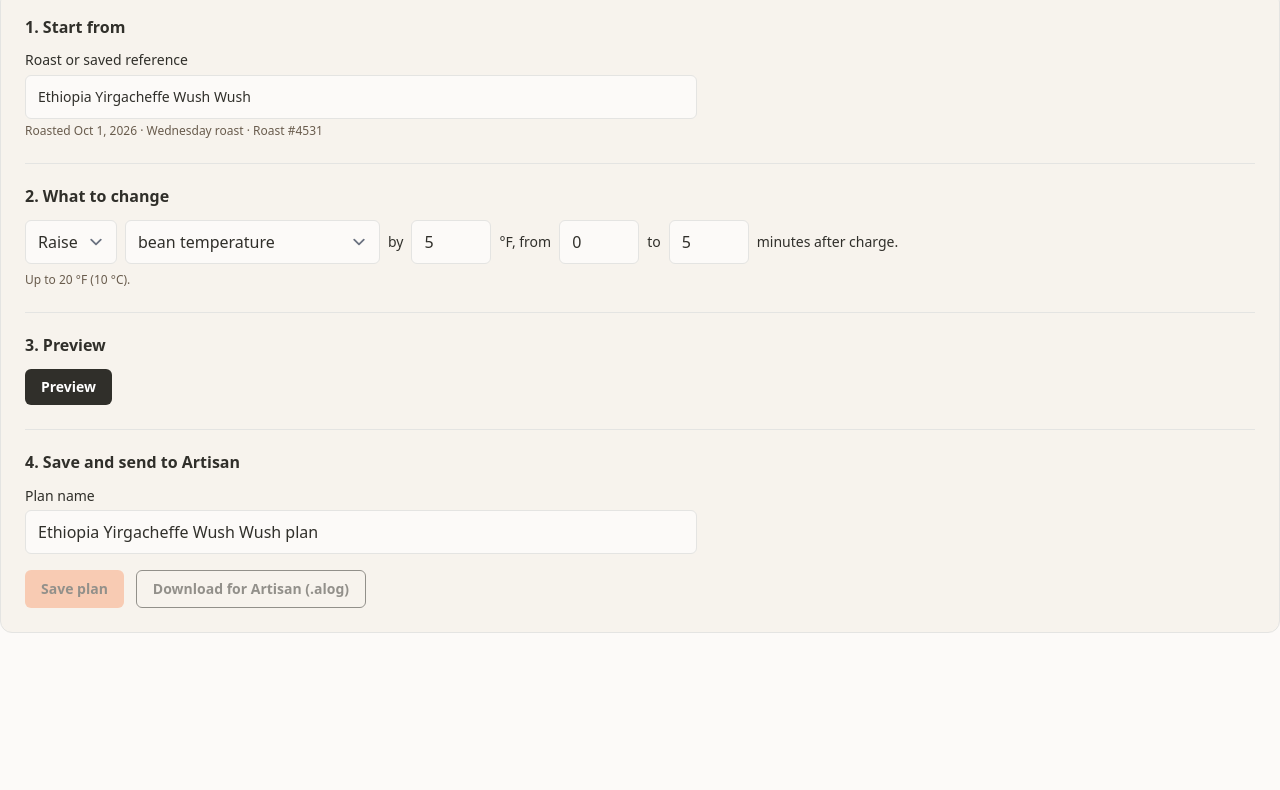
Test: planning from a roast › does not save a plan on a reference other than the one it was previewed against
The image size is (1280, 790).
What coordinates should you click on to do the following:
click the button "Preview"
I would click on:
 (69, 387)
Its box is [25,369,112,405].
(page scrolled)
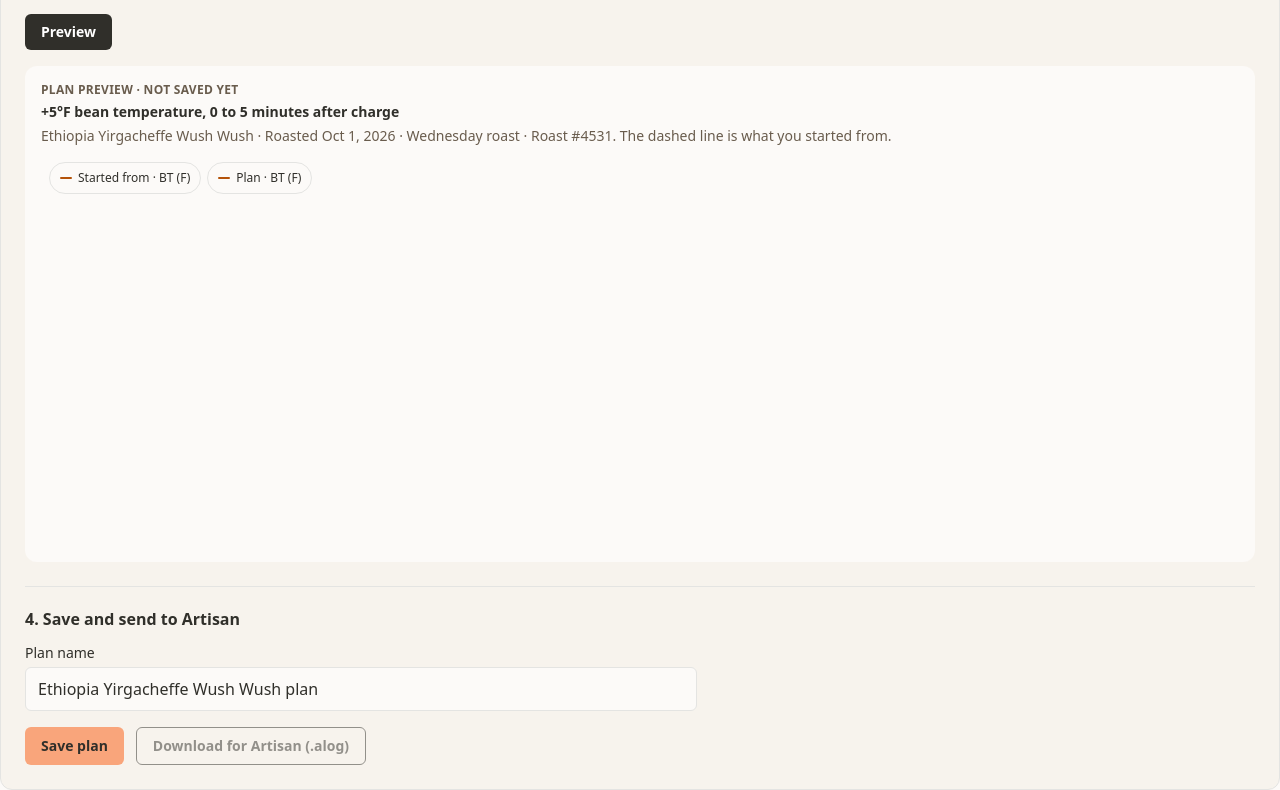
What coordinates should you click on to do the following:
click the button "Save plan"
I would click on:
 (74, 746)
Its box is [25,727,124,765].
(page scrolled)
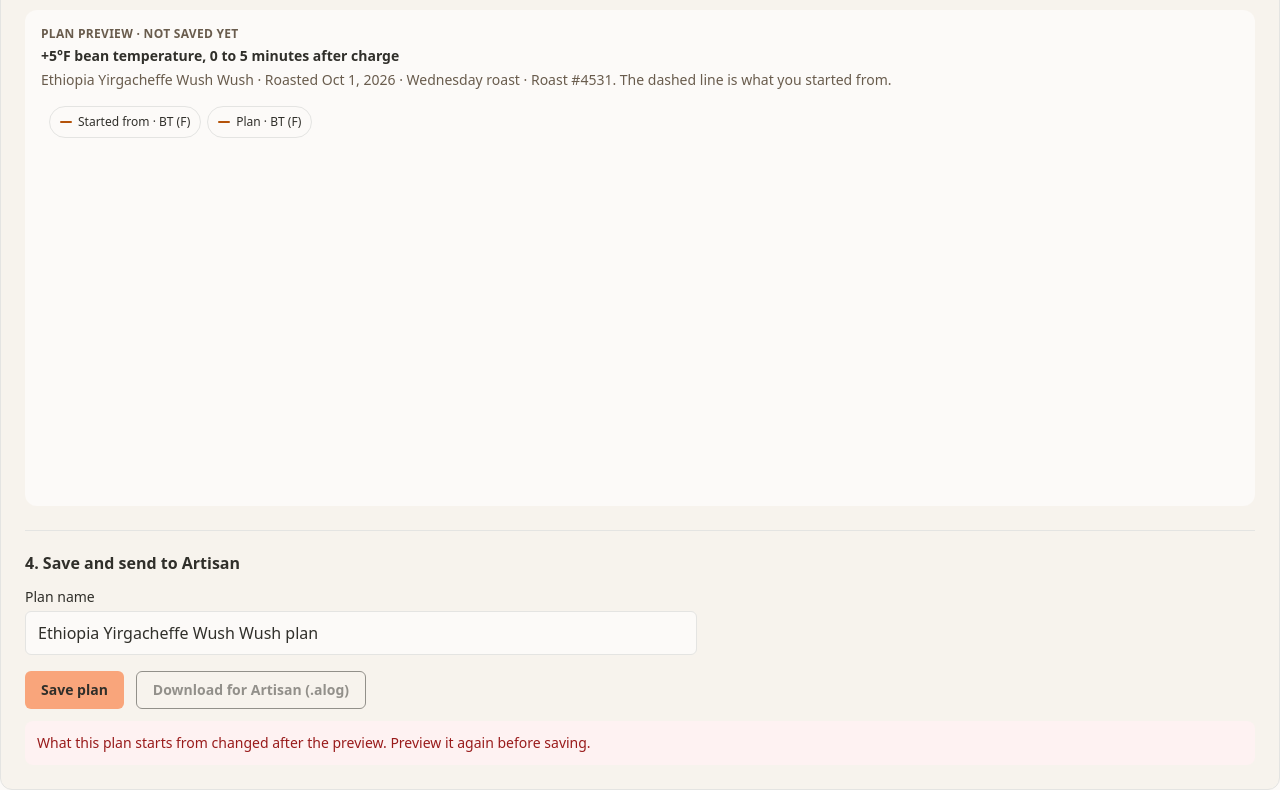
Now the message shows "What this plan starts from changed after the preview. Preview it again before saving.", box [37,733,591,752]
